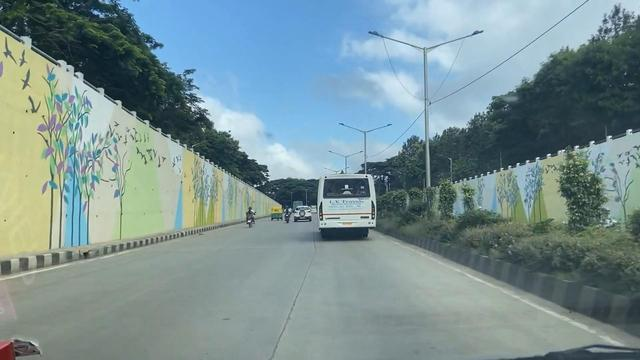HMV: (319, 178, 375, 239)
